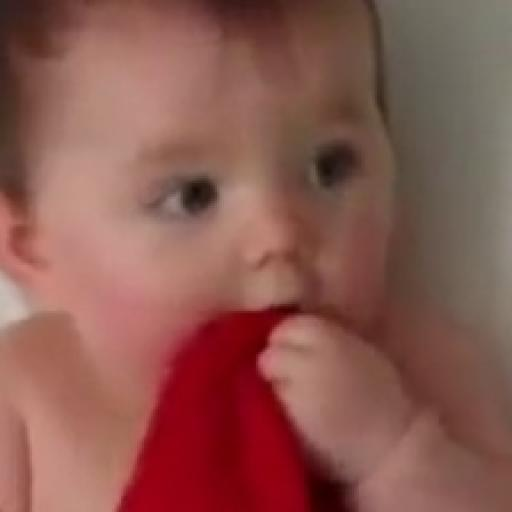Autism: (14, 2, 411, 442)
